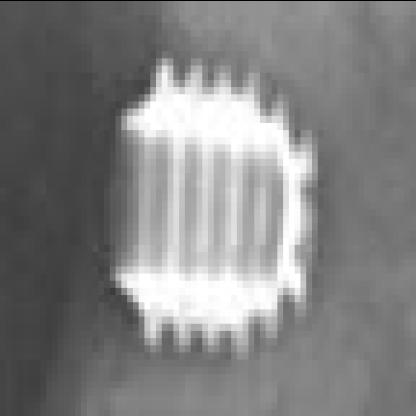Bicon: (112, 54, 316, 349)
